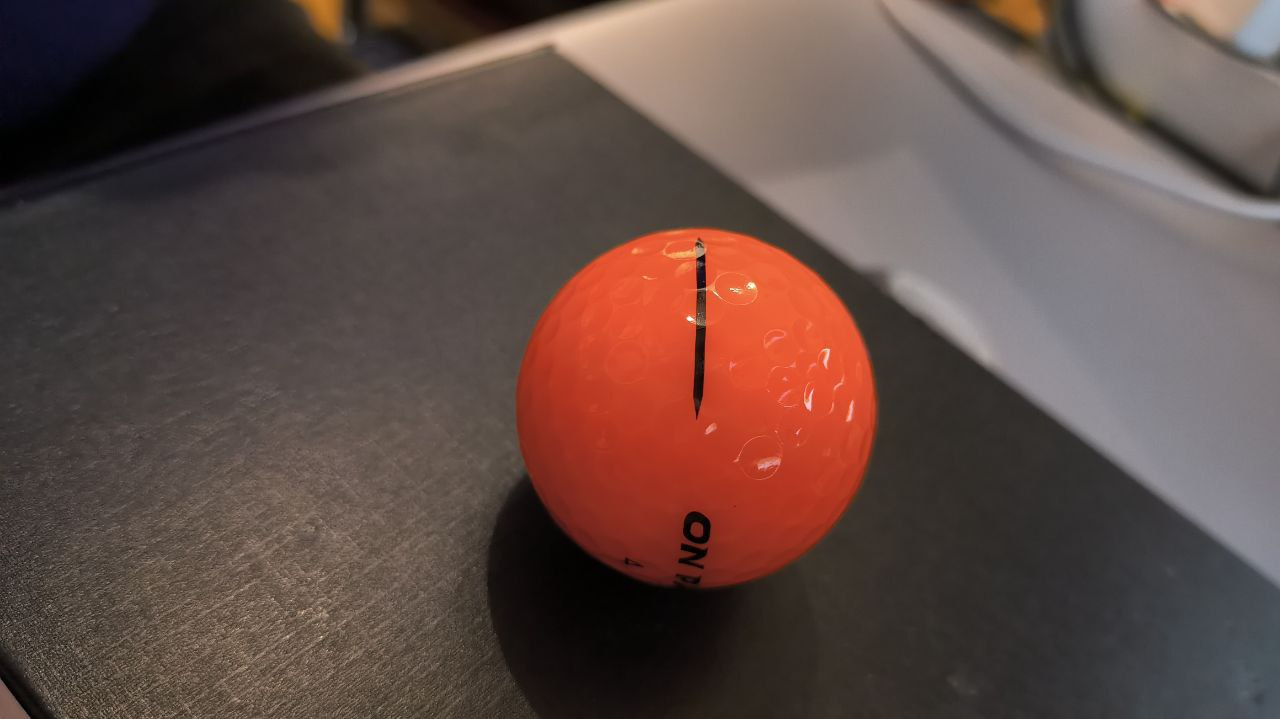orange_ball: (516, 228, 876, 588)
